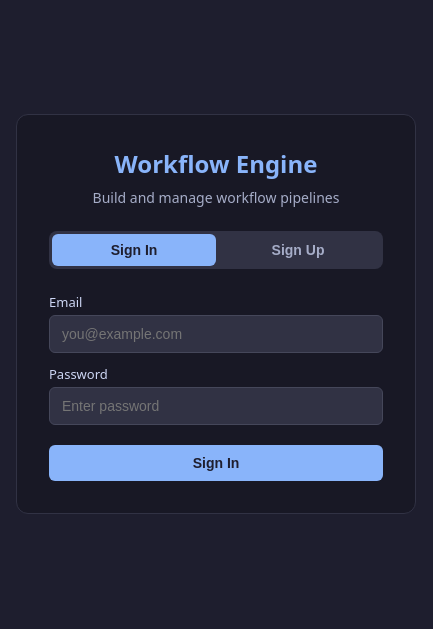
it: LoginPage › shows password mismatch error on sign-up
Click the button "Sign Up" at (298, 250), box [216, 234, 380, 266]
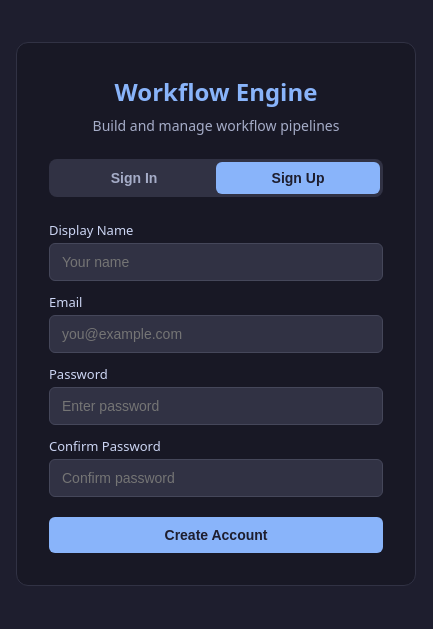
Type "test@test.com" into the field with placeholder "you@example.com" at (216, 334), box [49, 315, 383, 353]
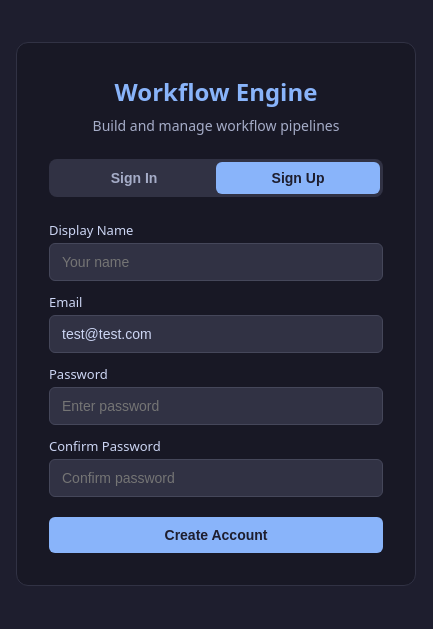
Type "password123" into the password field with placeholder "Enter password" at (216, 406), box [49, 387, 383, 425]
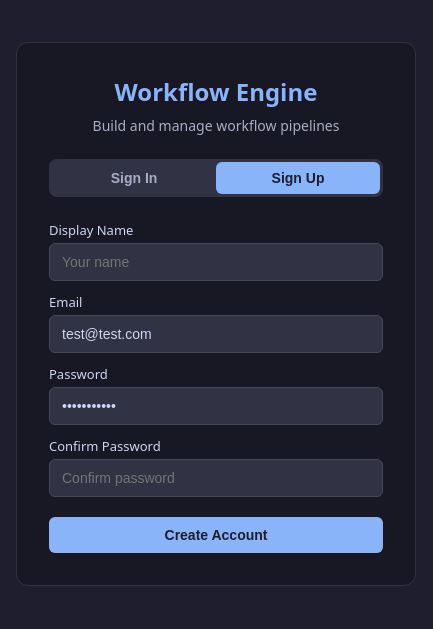
Type "different" into the password field with placeholder "Confirm password" at (216, 478), box [49, 459, 383, 497]
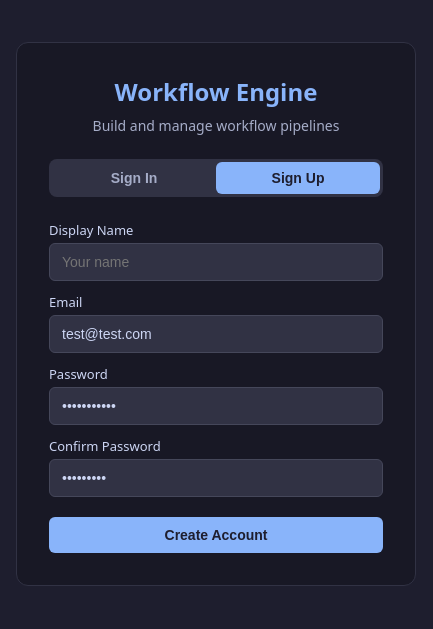
Click the button "Create Account" at (216, 535), box [49, 517, 383, 553]
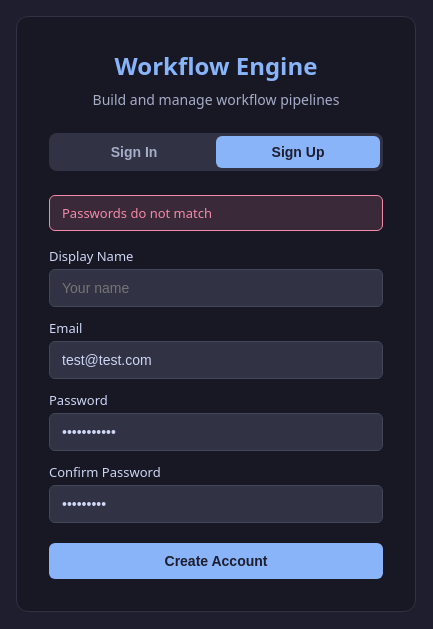
expect the text "Passwords do not match" is shown: met, box [49, 195, 383, 231]
